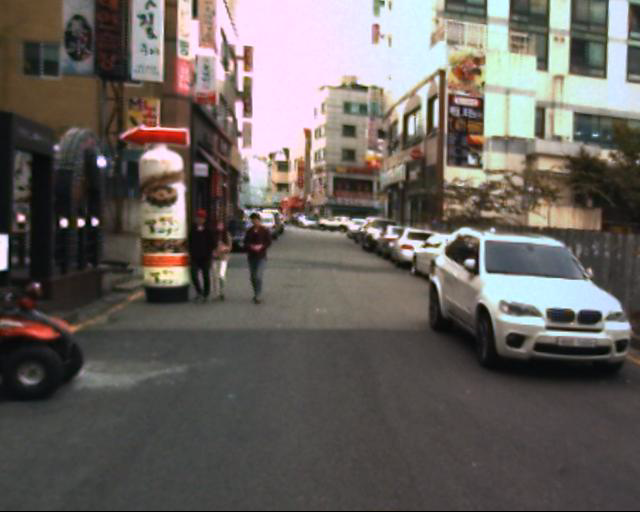person: (237, 202, 280, 314), (205, 208, 233, 311), (182, 207, 210, 310)
